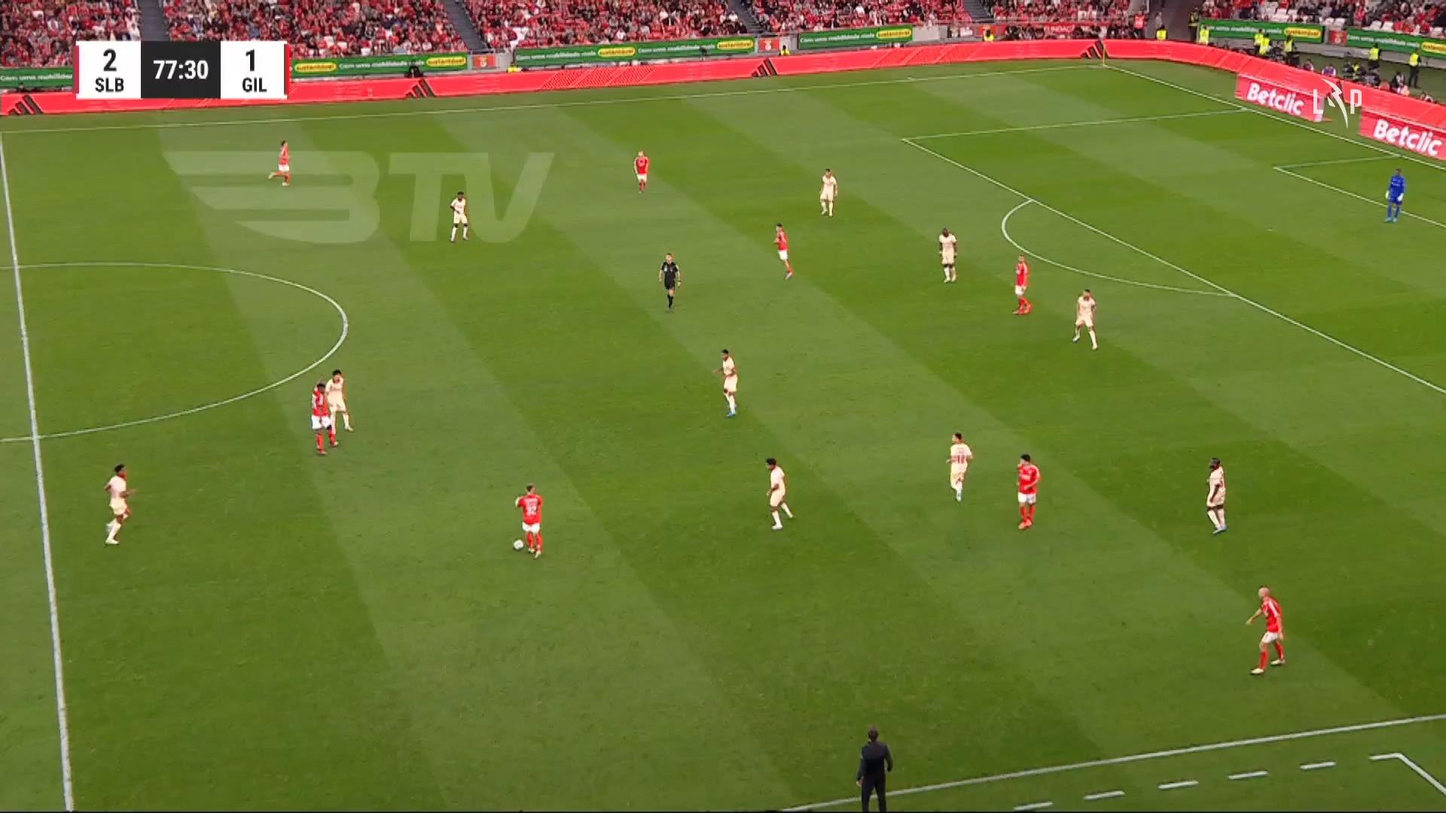ball: (512, 539, 524, 550)
goalkeeper: (1383, 166, 1405, 223)
player: (1245, 586, 1286, 675), (102, 463, 137, 545), (514, 483, 544, 559), (764, 457, 794, 531), (324, 369, 353, 443), (310, 380, 337, 455), (946, 431, 973, 503), (1015, 453, 1040, 530), (1204, 457, 1228, 534), (713, 348, 738, 417), (1071, 288, 1098, 350), (937, 227, 959, 283), (1011, 254, 1031, 315), (773, 223, 794, 279), (267, 139, 291, 187), (449, 190, 470, 242), (818, 167, 837, 217), (633, 149, 649, 194)
referee: (855, 726, 892, 811), (657, 251, 681, 312)
